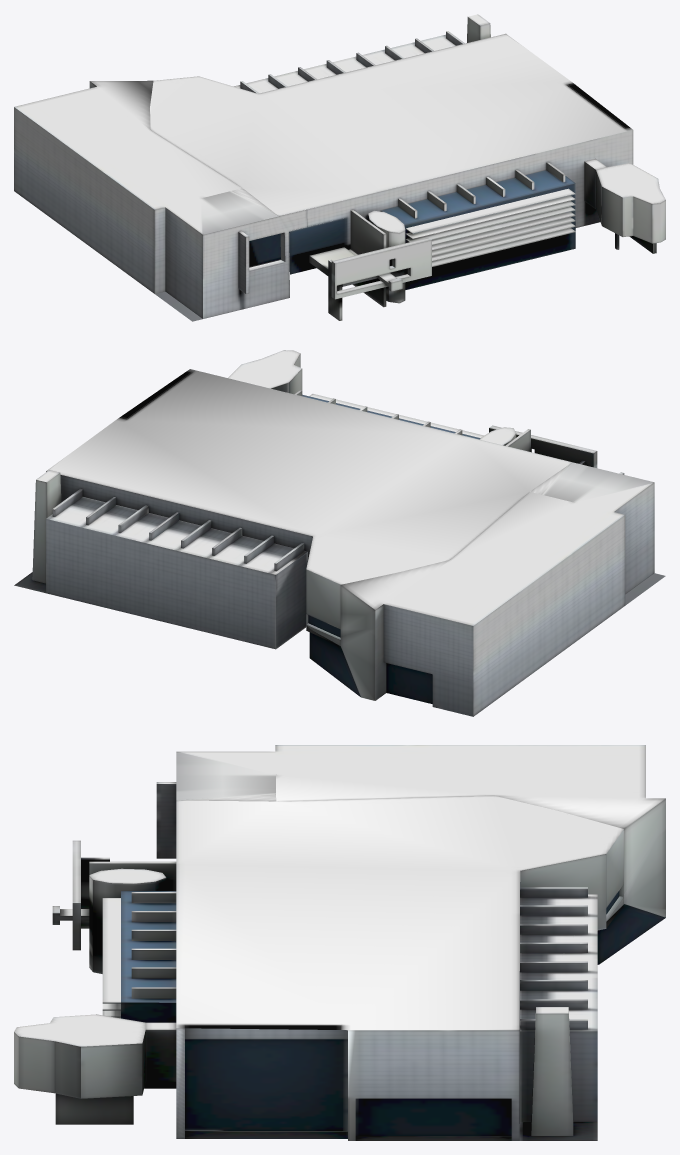
Rendered from aquarium2.obj.
3 views of the same model, one above another, from view 1: azimuth 30°, elevation 25°; view 2: azimuth 150°, elevation 25°; view 3: azimuth 270°, elevation 25° (orthographic). The views are drawn at different scales.
Visible parts, largest first — view 1: Fachada, ventan; view 2: Fachada; view 3: Fachada.
Part boxes in pixels (x1,y1,x2,y2): Fachada: [14, 14, 665, 321]; ventan: [249, 233, 280, 267]; Fachada: [14, 350, 665, 716]; Fachada: [14, 745, 665, 1140].
Bounding box in the file's own units: 225 × 44.57 × 217.
1 material, 1 textured.
